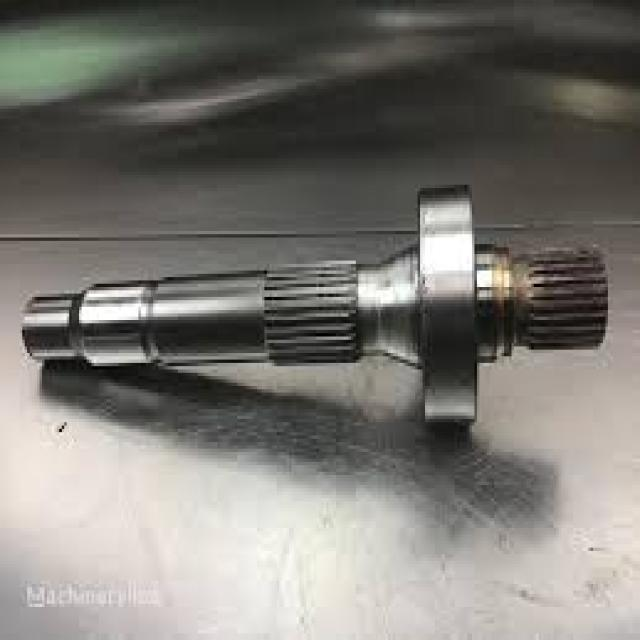Turning: (25, 161, 622, 478)
